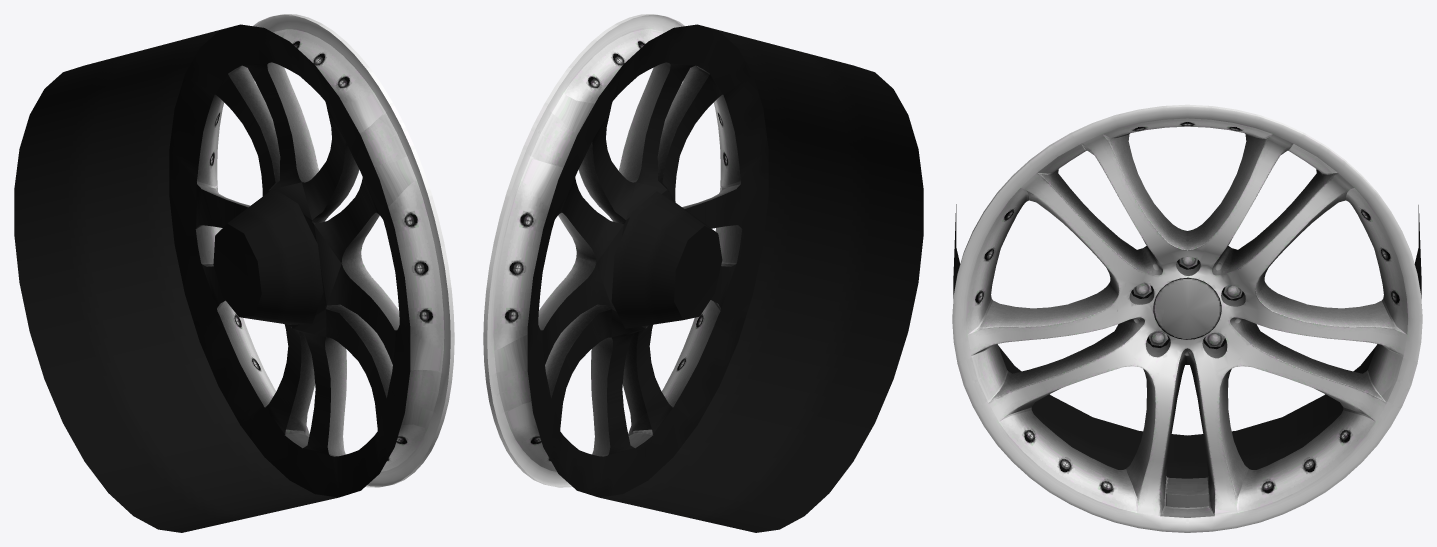
The model's file is wheel20.fbx.
The picture shows the model from 3 angles, left to right: view 1: azimuth 30°, elevation 25°; view 2: azimuth 150°, elevation 25°; view 3: azimuth 270°, elevation 25°; orthographic projection. The views are drawn at different scales.
Parts seen in each view (by area): view 1: bra_monoblock_s_wheel_wheel_inner_rim_, wheel_rim, bra_monoblock_s_wheel_wheel_rim_; view 2: bra_monoblock_s_wheel_wheel_inner_rim_, wheel_rim, bra_monoblock_s_wheel_wheel_rim_; view 3: bra_monoblock_s_wheel_wheel_rim_, wheel_rim, bra_monoblock_s_wheel_wheel_inner_rim_, bra_monoblock_s_wheel_wheel_chrome_rim_.
Part boxes in pixels (x1,y1,x2,y2): bra_monoblock_s_wheel_wheel_inner_rim_: (14,24,410,532); wheel_rim: (195,14,454,487); bra_monoblock_s_wheel_wheel_rim_: (196,29,441,456); bra_monoblock_s_wheel_wheel_inner_rim_: (527,24,923,532); wheel_rim: (483,14,742,487); bra_monoblock_s_wheel_wheel_rim_: (494,32,741,457); bra_monoblock_s_wheel_wheel_rim_: (967,121,1407,515); wheel_rim: (952,104,1422,532); bra_monoblock_s_wheel_wheel_inner_rim_: (953,204,1421,478); bra_monoblock_s_wheel_wheel_chrome_rim_: (1133,256,1242,347).
Size of the model in its own units: 0.2303 by 0.4795 by 0.4794.
Materials: 1 (1 with a texture image).
